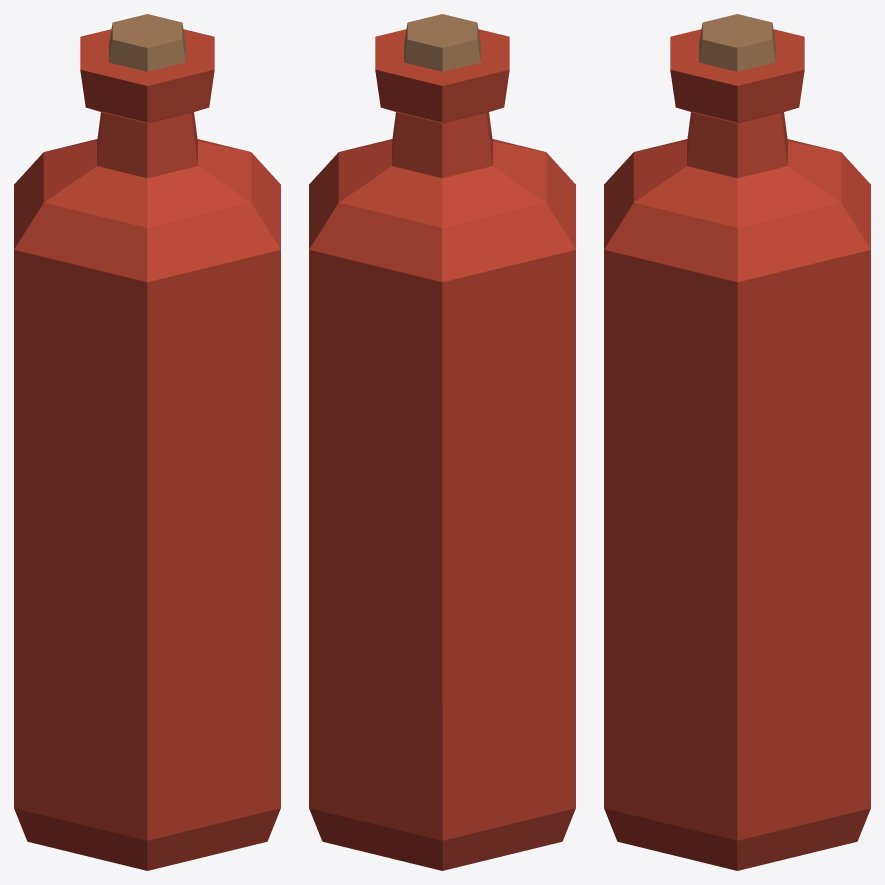
The model's file is Red_Potion_1.fbx.
3 renders of one model, left to right at view 1: azimuth 30°, elevation 25°; view 2: azimuth 150°, elevation 25°; view 3: azimuth 270°, elevation 25°, orthographic.
Visible parts, largest first — view 1: Red_Potion_1; view 2: Red_Potion_1; view 3: Red_Potion_1.
Part boxes in pixels (x1=…): Red_Potion_1: x1=14, y1=14, x2=280, y2=870; Red_Potion_1: x1=309, y1=14, x2=575, y2=870; Red_Potion_1: x1=604, y1=14, x2=870, y2=870.
Size of the model in its own units: 13.2 by 36.91 by 11.43.
